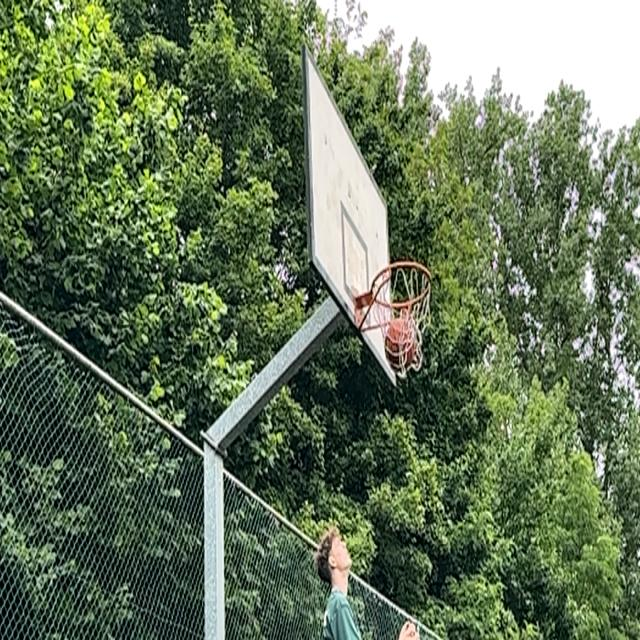Goal: (384, 317, 415, 367)
